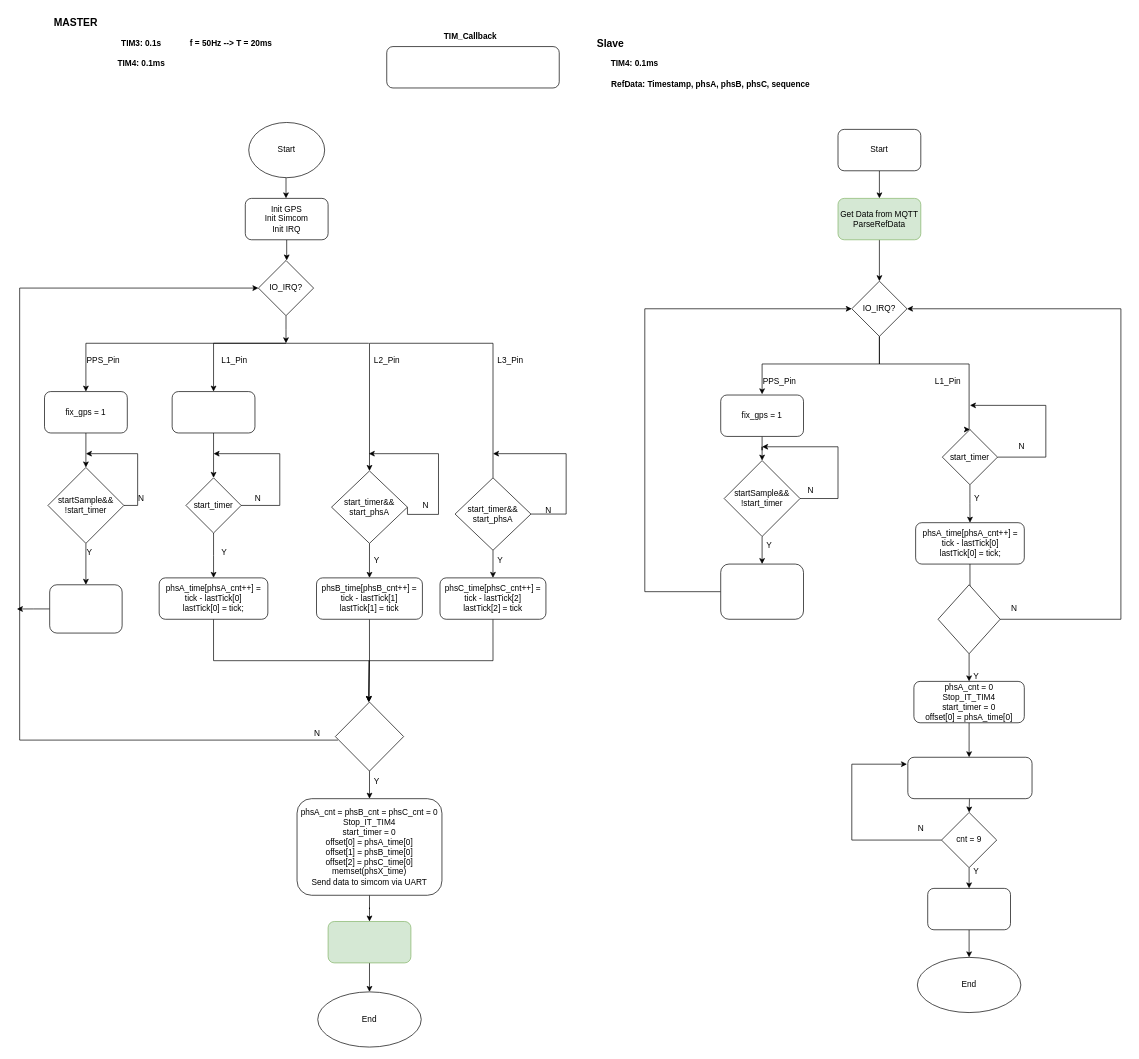
The diagram is 1139 pixels wide and 1059 high, and some of its shapes have lost their labels. Each missing label, with the box of its shape:
EndMeas Calc_phase: (927, 888, 1011, 930)
measureData[cnt++].phsA = offset[0]: (907, 757, 1032, 799)
Parsing payload Upload to MQTT Broker: (327, 921, 411, 963)
phsA_cnt >= 5: (937, 584, 1000, 654)
phsA_connect = 1 start_timer3_IT start_phsA = 1: (171, 391, 255, 433)
phsX_cnt >= 15: (335, 701, 404, 771)
tick = 0; lastTick[0] = {0} start_timer4_IT start_timer = 1: (720, 563, 804, 619)
tick = 0; lastTick[] = {0} start_timer4_IT start_timer = 1 start_phsA = 0: (49, 584, 122, 633)
TIM4 ---> tick++ TIM3 ---> phsA_connect = 0, STOP_IT(TIM3): (386, 46, 559, 88)
